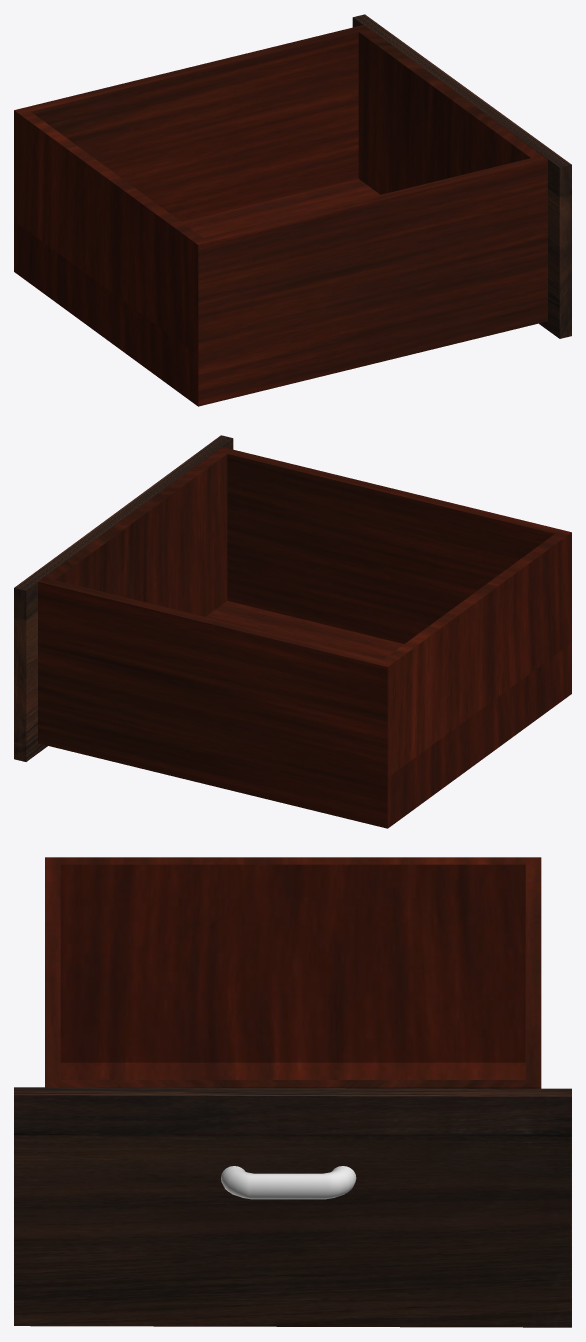
File: 3D Drawer(1) (1).fbx
3 renders of one model, top to bottom at view 1: azimuth 30°, elevation 25°; view 2: azimuth 150°, elevation 25°; view 3: azimuth 270°, elevation 25°, orthographic. The views are drawn at different scales.
Visible parts, largest first — view 1: pCube51; view 2: pCube51; view 3: pCube51.
Boxes of the visible parts, bbox=[...] form: pCube51: bbox=[14, 14, 571, 406]; pCube51: bbox=[14, 435, 571, 828]; pCube51: bbox=[14, 857, 571, 1327].
Bounding box in the file's own units: 6.48 × 2.8 × 6.09.
Materials: 3 (2 with a texture image).
